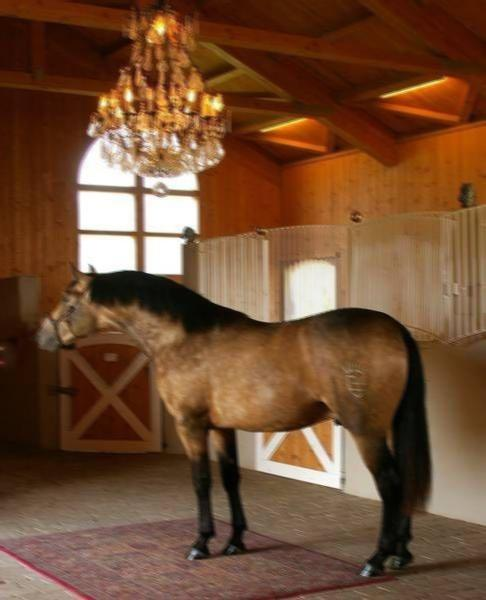horse: (32, 259, 434, 577)
